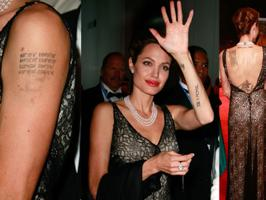person: (89, 1, 215, 200)
